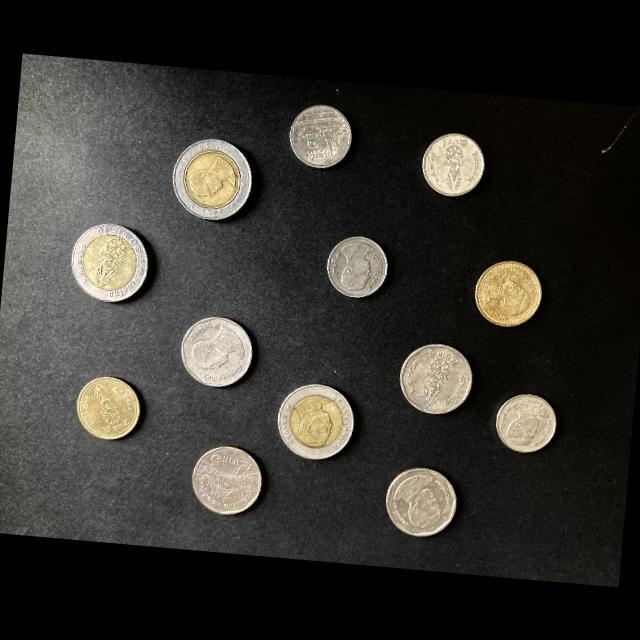1 Bath: (419, 130, 487, 198), (288, 103, 354, 173), (324, 234, 390, 301), (496, 390, 560, 456)
10 Bath: (171, 139, 259, 225), (73, 223, 155, 306), (279, 383, 357, 464)
2 Bath: (74, 375, 144, 445), (474, 260, 546, 327)
5 Bath: (399, 340, 477, 418), (181, 314, 257, 393), (386, 464, 460, 542), (192, 446, 264, 518)
